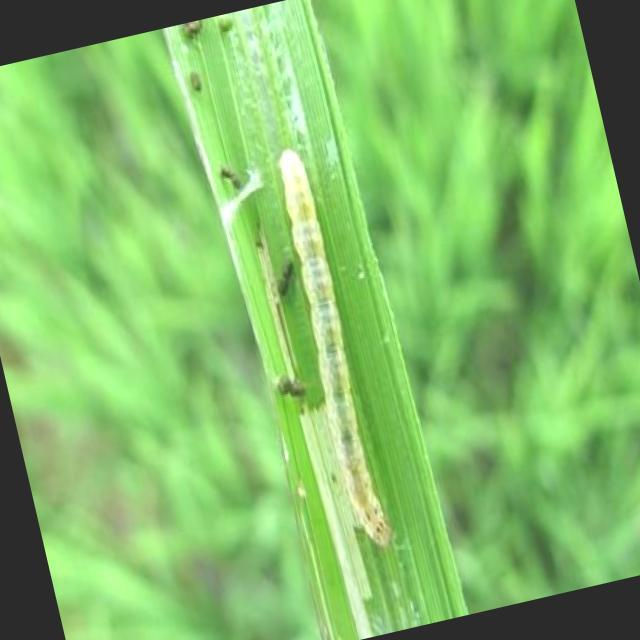leaf folder: (279, 150, 390, 545)
